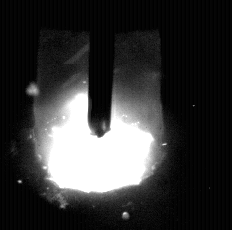arame: (89, 0, 112, 138)
poca: (34, 0, 165, 230)
